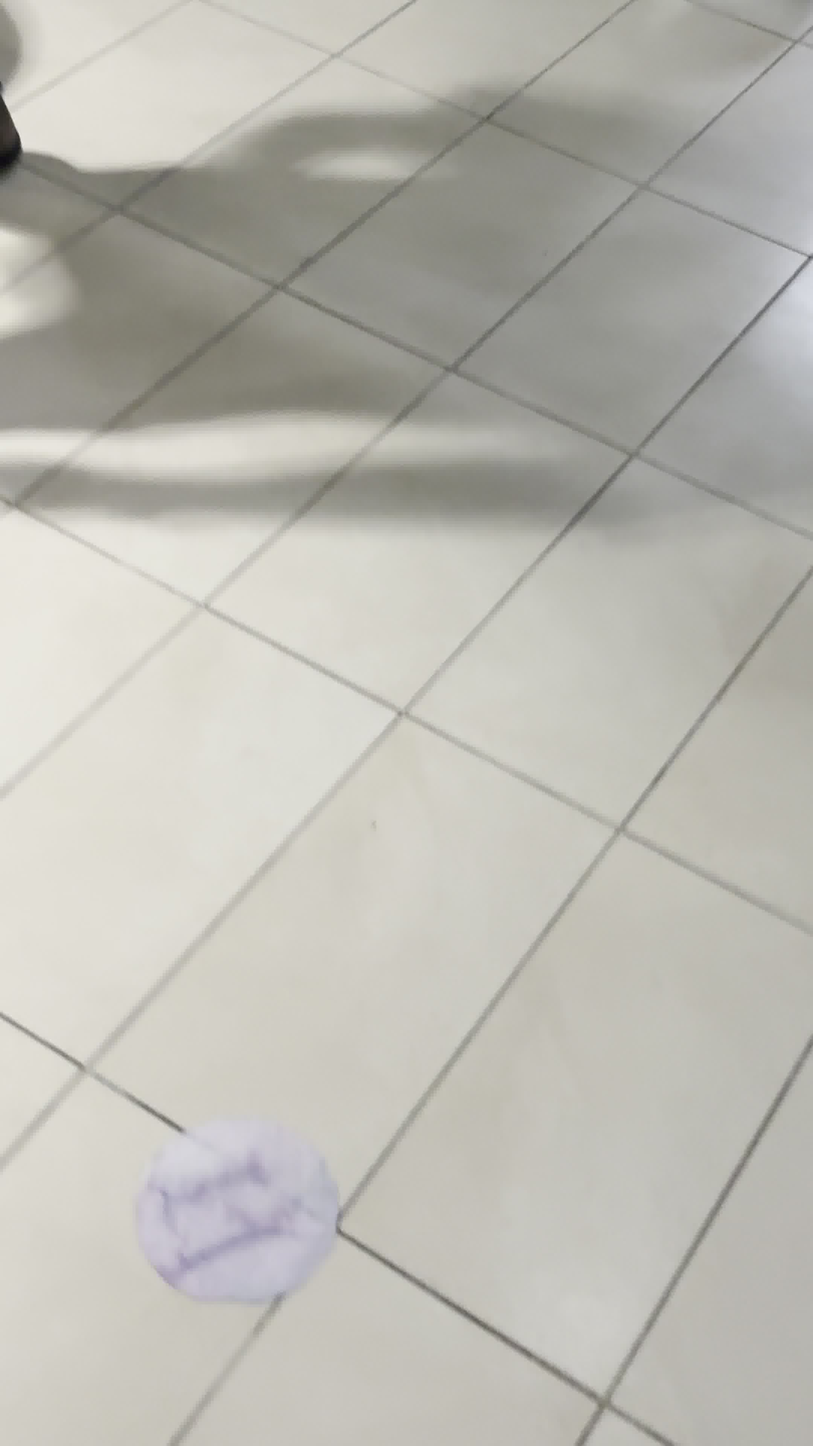Target: (132, 1118, 336, 1301)
